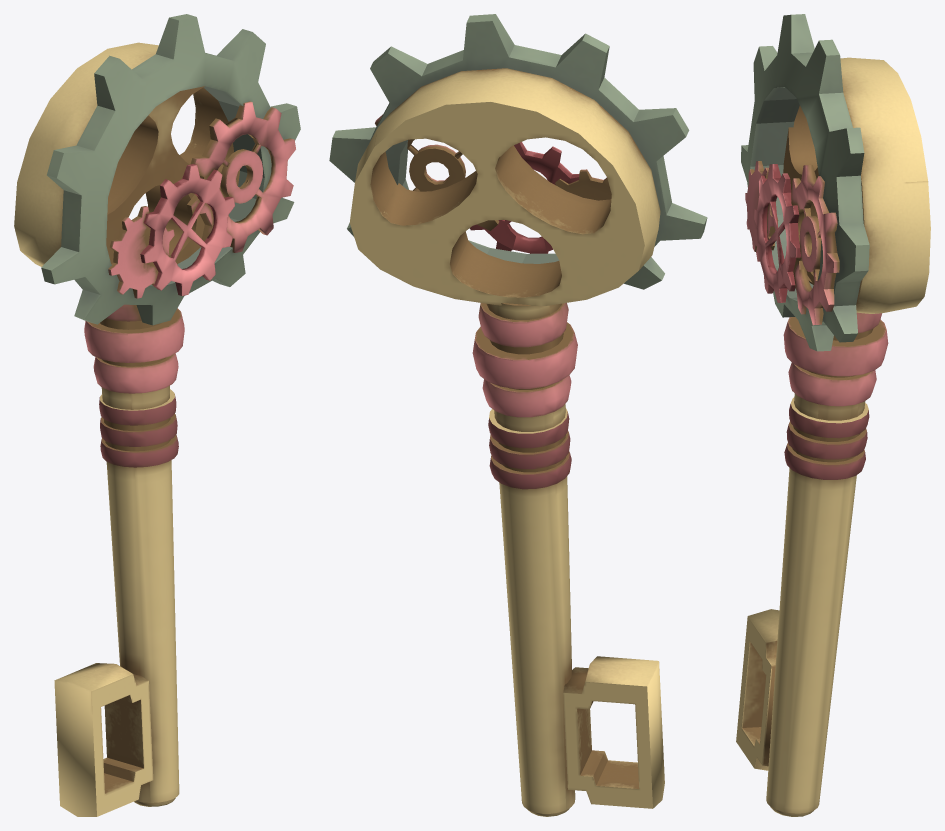
File: key_07.glb
3 renders of one model, left to right at view 1: azimuth 30°, elevation 25°; view 2: azimuth 150°, elevation 25°; view 3: azimuth 270°, elevation 25°, orthographic. The views are drawn at different scales.
Visible parts, largest first — view 1: Key; view 2: Key; view 3: Key.
Part boxes in pixels (x1,y1,x2,y2): Key: (14,14,300,816); Key: (329,14,707,816); Key: (736,14,930,816).
Size of the model in its own units: 0.0423 by 0.1 by 0.0224.
8 materials, 8 textured.
